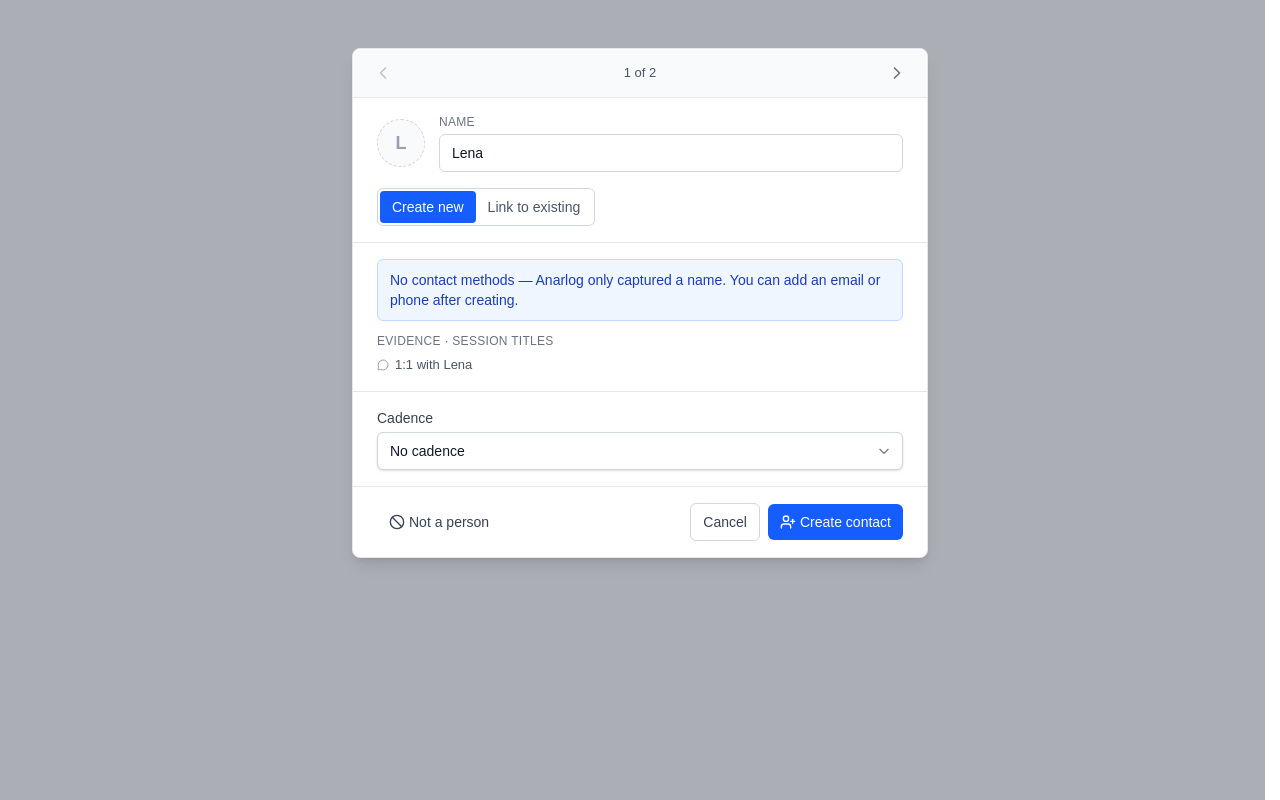
Test case: NameCandidateModal › pages forward to the next token group
Click the button named "Next". click: x=897, y=73
box: [883, 59, 911, 87]
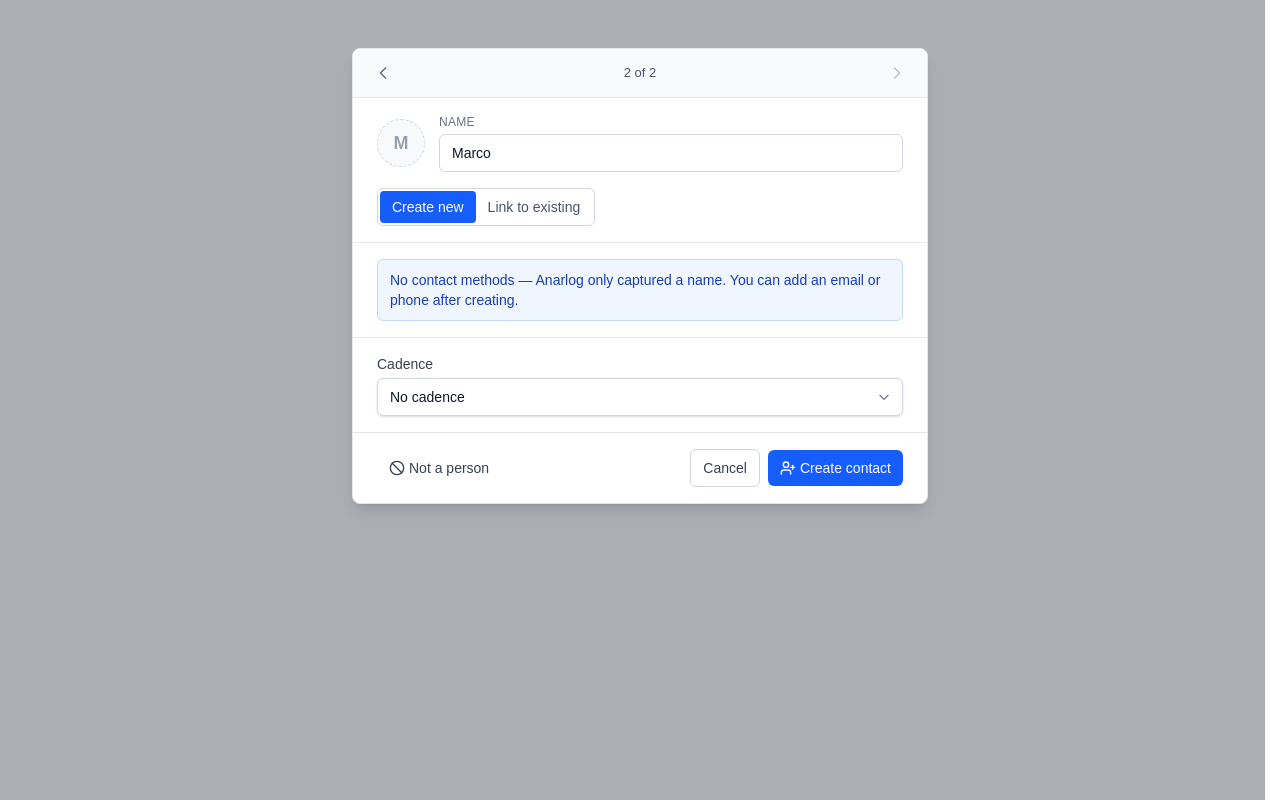
Now the text "2 of 2" is shown, box [624, 63, 656, 83]
Now the field labelled "Name" holds "Marco", box [439, 134, 903, 172]
